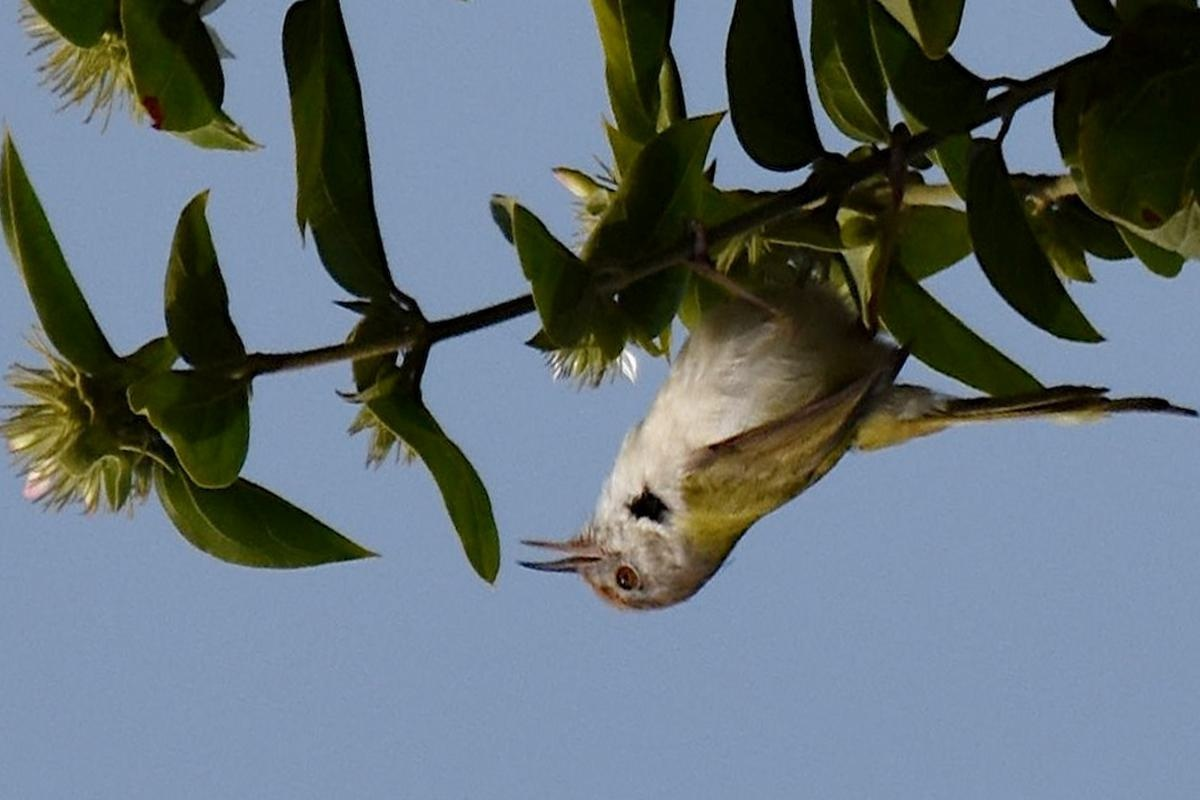tailorbird: (496, 231, 1120, 624)
